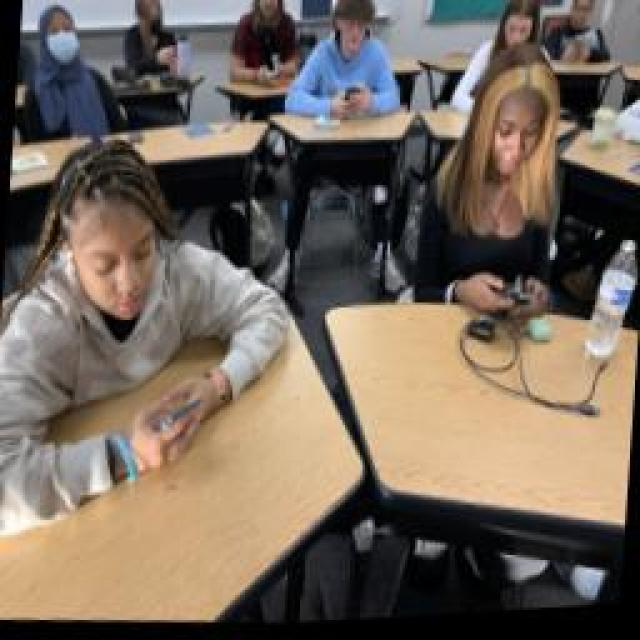phone: (0, 118, 300, 542), (408, 43, 570, 335), (282, 0, 408, 130), (222, 0, 302, 88), (115, 0, 193, 85)
study: (12, 0, 132, 145)
